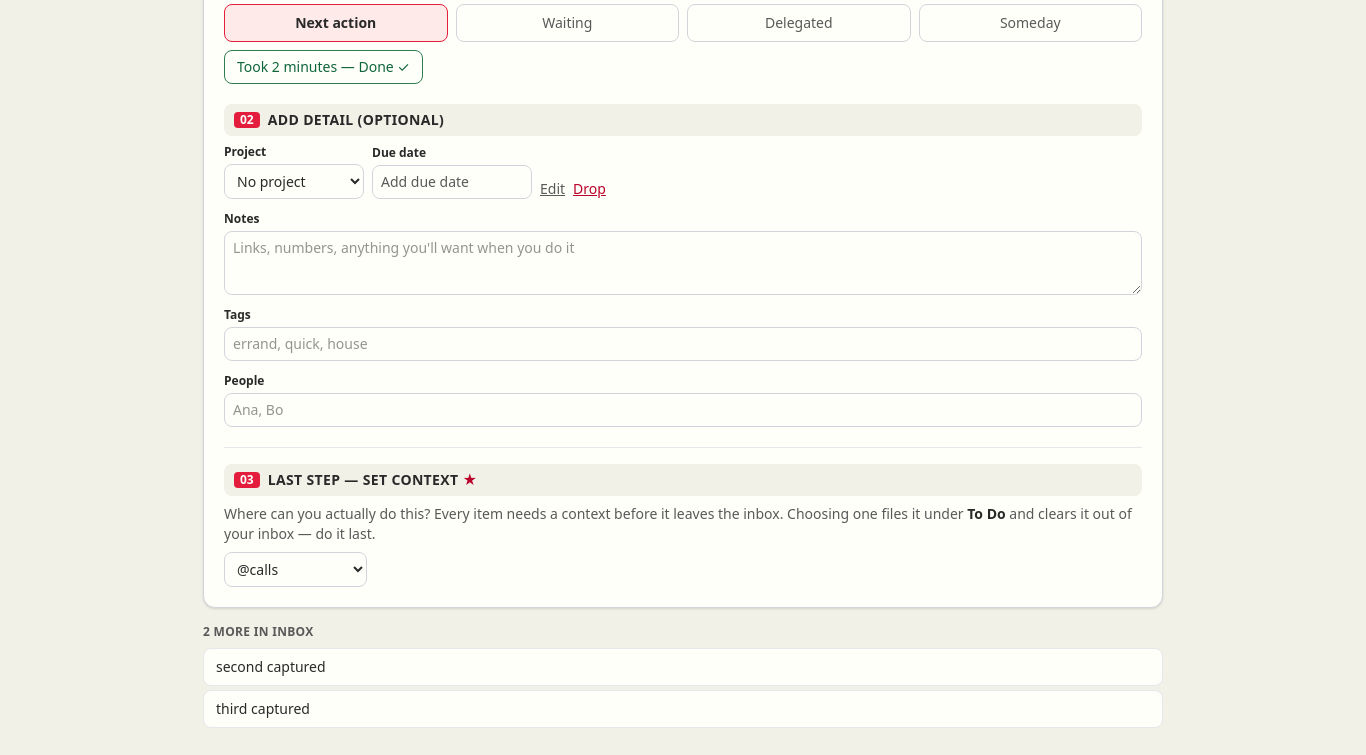
Test case: InboxPage triage selection › shows ONE notice for a filing: the undo row, inline between the card and the queue
(page scrolled)
Select "@calls" in the dropdown named "Set context and file this todo": (296, 570) [224,552,367,587]
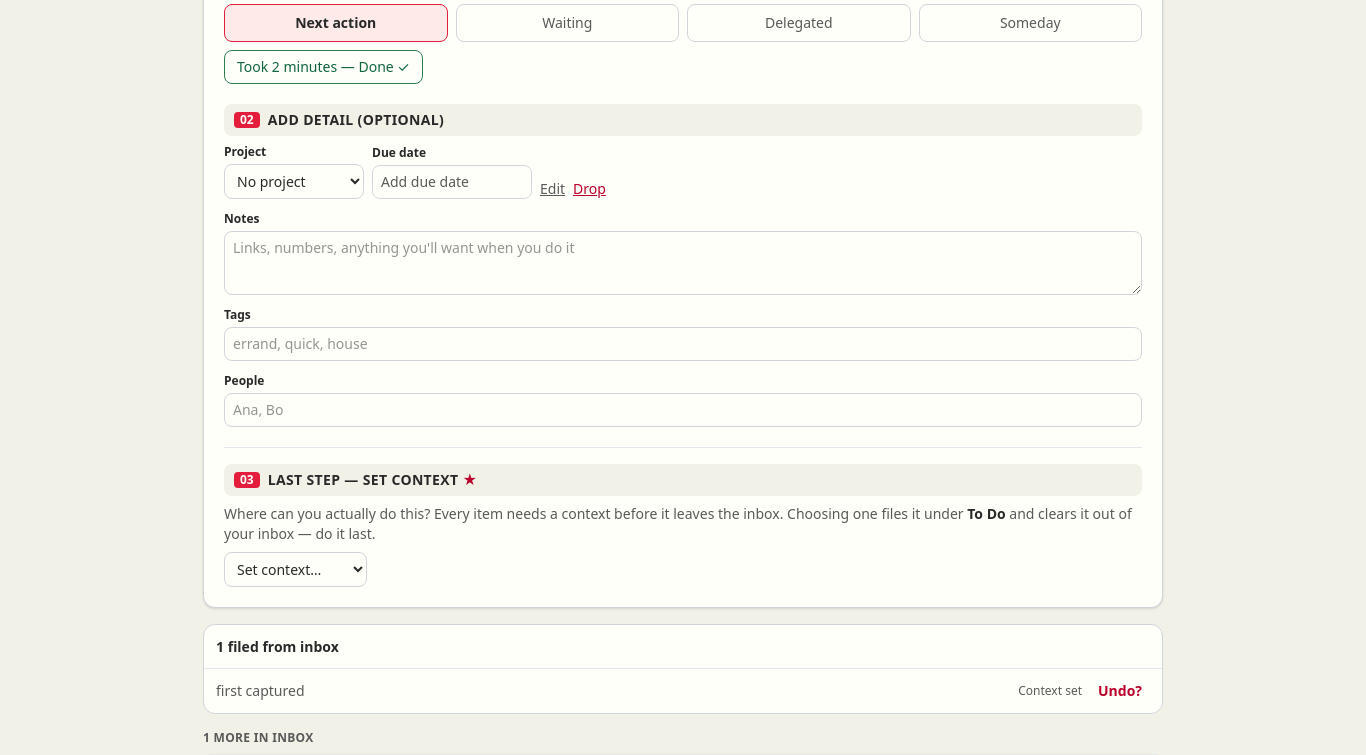
Check: the message "1 filed from inbox first captured Context set Undo?" is shown, box [203,624,1163,714]
Check: the button "Undo?" is shown, box [1090,677,1150,705]
